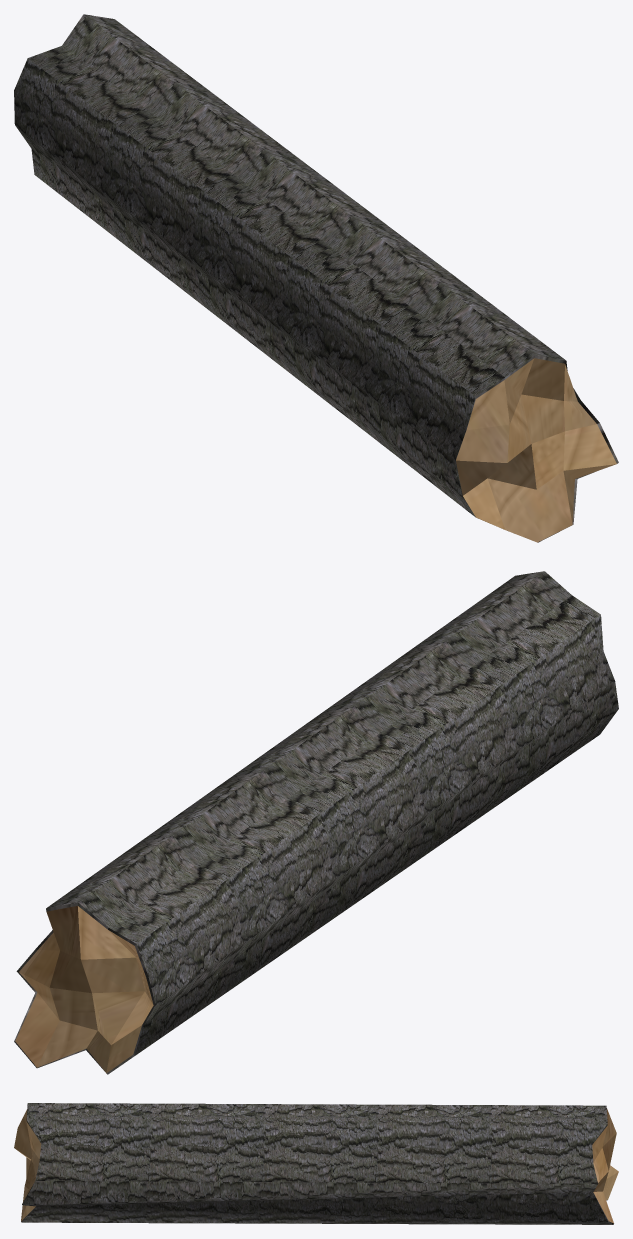
The model's file is log.gltf.
The picture shows the model from 3 angles, top to bottom: view 1: azimuth 30°, elevation 25°; view 2: azimuth 150°, elevation 25°; view 3: azimuth 270°, elevation 25°; orthographic projection. The views are drawn at different scales.
Parts seen in each view (by area): view 1: Circle; view 2: Circle; view 3: Circle.
Part boxes in pixels (x1=…): Circle: x1=14, y1=14, x2=618, y2=542; Circle: x1=14, y1=571, x2=618, y2=1074; Circle: x1=14, y1=1103, x2=618, y2=1224.
Size of the model in its own units: 2.05 by 2.35 by 11.02.
Materials: 2 (2 with a texture image).
